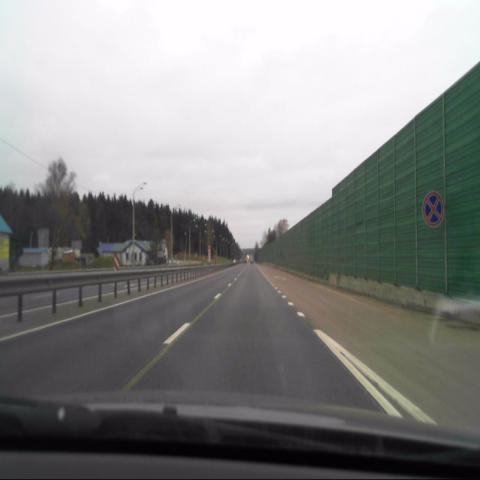3_27: (422, 191, 444, 228)
